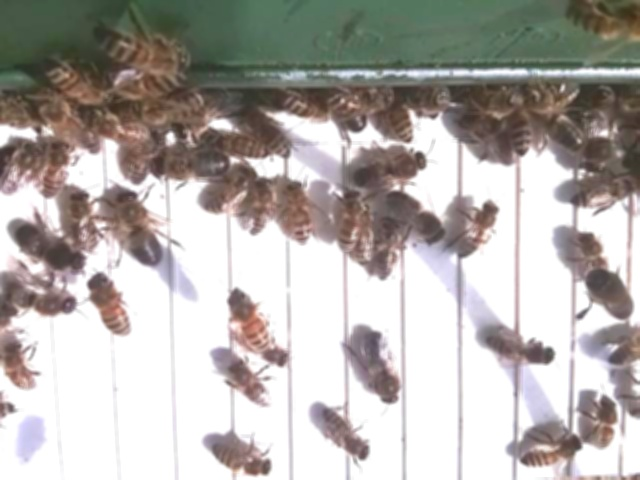Drone: (114, 189, 164, 272), (12, 223, 87, 277), (386, 189, 447, 249), (358, 329, 402, 410), (348, 152, 431, 193), (2, 284, 82, 321), (152, 149, 231, 183)
Worker: (454, 198, 504, 262), (224, 287, 273, 352), (90, 272, 136, 340), (321, 406, 373, 465), (207, 439, 278, 480), (486, 332, 558, 369), (513, 435, 584, 471), (66, 188, 103, 255), (0, 338, 42, 397), (250, 112, 297, 163), (243, 177, 280, 241), (38, 140, 73, 205), (372, 216, 404, 287), (229, 362, 273, 413), (284, 177, 315, 248), (202, 176, 254, 218), (334, 190, 365, 256), (590, 392, 620, 454), (566, 185, 627, 213)
